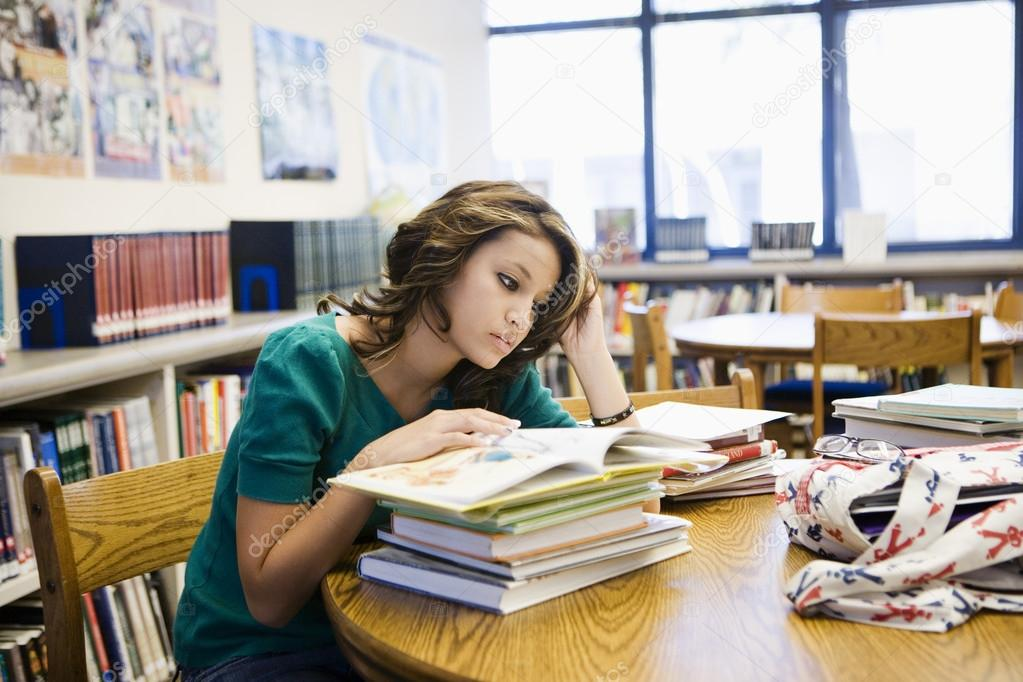students: (172, 180, 638, 678)
